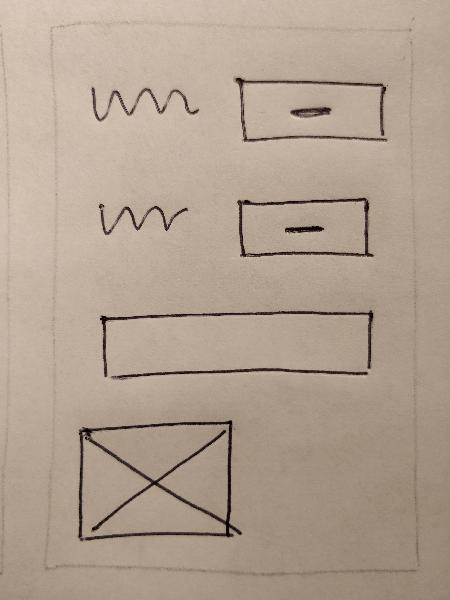button: (225, 71, 392, 154), (227, 192, 382, 270)
image: (67, 411, 244, 547)
text: (86, 79, 201, 137), (90, 193, 192, 245)
text_input: (94, 304, 381, 389)
